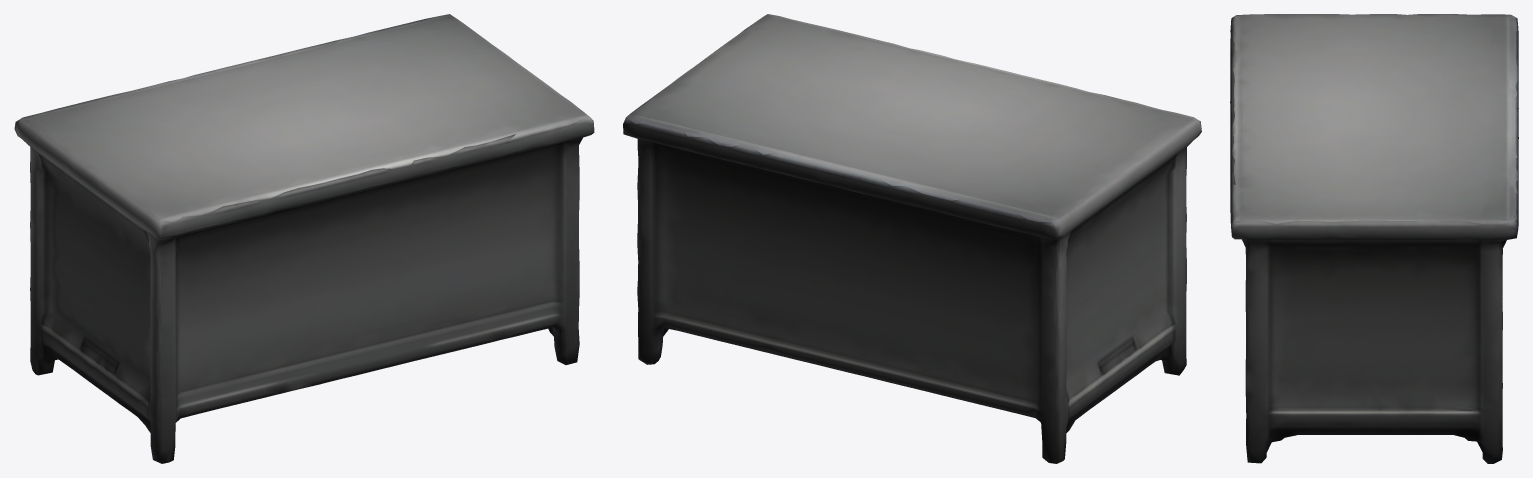
The model's file is utility_table.glb.
3 views of the same model, side by side, from view 1: azimuth 30°, elevation 25°; view 2: azimuth 150°, elevation 25°; view 3: azimuth 270°, elevation 25° (orthographic).
Parts seen in each view (by area): view 1: KitchenTable; view 2: KitchenTable; view 3: KitchenTable.
Boxes of the visible parts, x1,y1,x2,y2 form: KitchenTable: [14, 14, 594, 463]; KitchenTable: [623, 14, 1201, 463]; KitchenTable: [1230, 14, 1518, 463].
Size of the model in its own units: 1.2 by 0.6555 by 0.694.
Materials: 1 (1 with a texture image).
